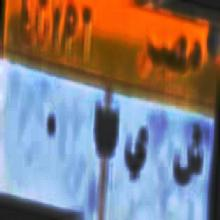0: (44, 103, 60, 137)
sheen: (173, 108, 204, 200)
yaa: (125, 120, 150, 182)
